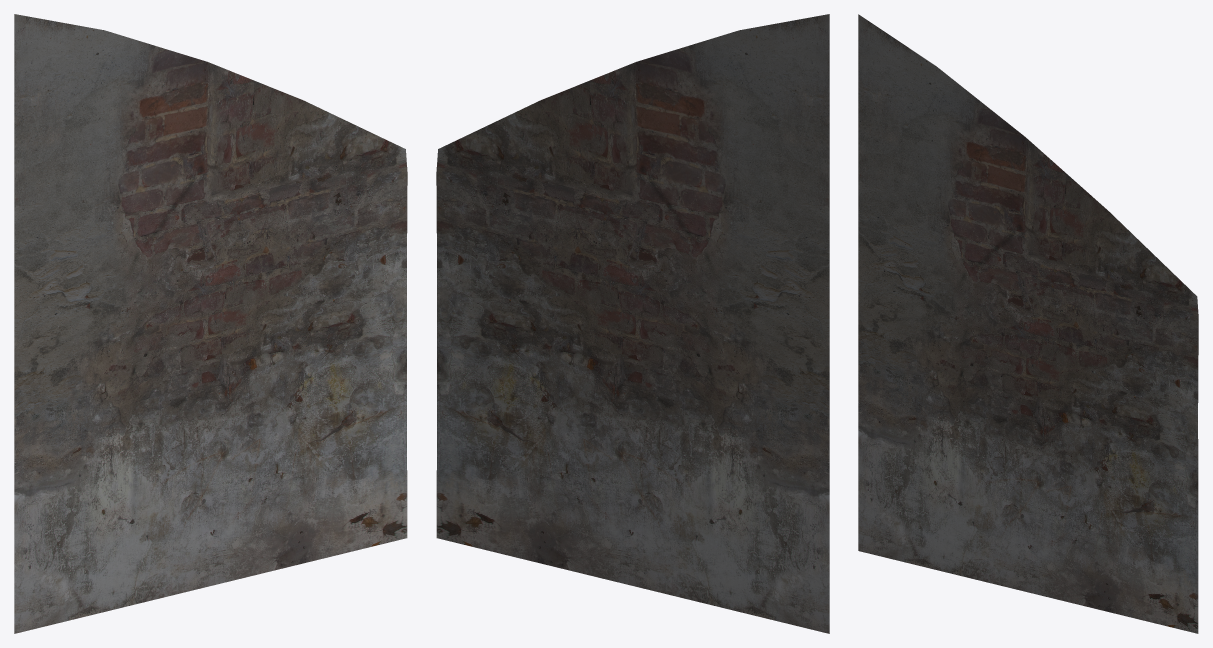
File: SM_CryptWall_02_03.fbx
The picture shows the model from 3 angles, left to right: view 1: azimuth 30°, elevation 25°; view 2: azimuth 150°, elevation 25°; view 3: azimuth 330°, elevation 25°; orthographic projection. The views are drawn at different scales.
Visible parts, largest first — view 1: sm_CryptWall_02_03_LOD0; view 2: sm_CryptWall_02_03_LOD0; view 3: sm_CryptWall_02_03_LOD0.
Boxes of the visible parts, x1,y1,x2,y2 form: sm_CryptWall_02_03_LOD0: (14, 14, 407, 633); sm_CryptWall_02_03_LOD0: (436, 14, 829, 633); sm_CryptWall_02_03_LOD0: (858, 14, 1198, 633).
Size of the model in its own units: 0.000282 by 190 by 287.
